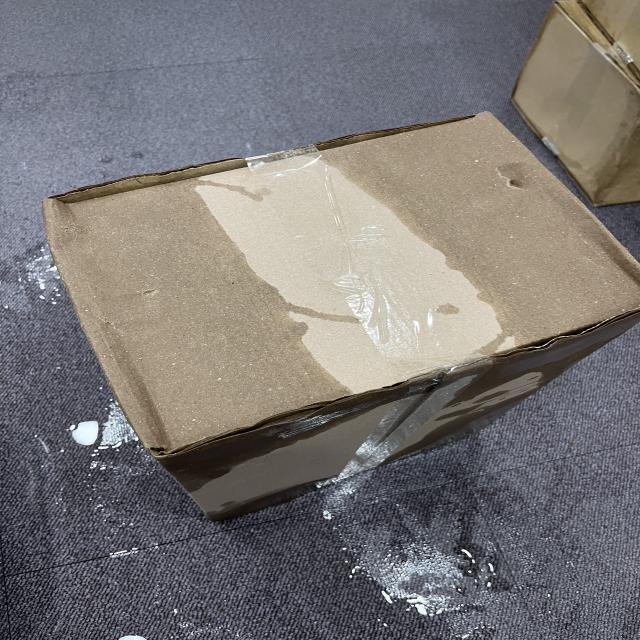wet: (45, 176, 359, 451), (336, 113, 639, 353)
